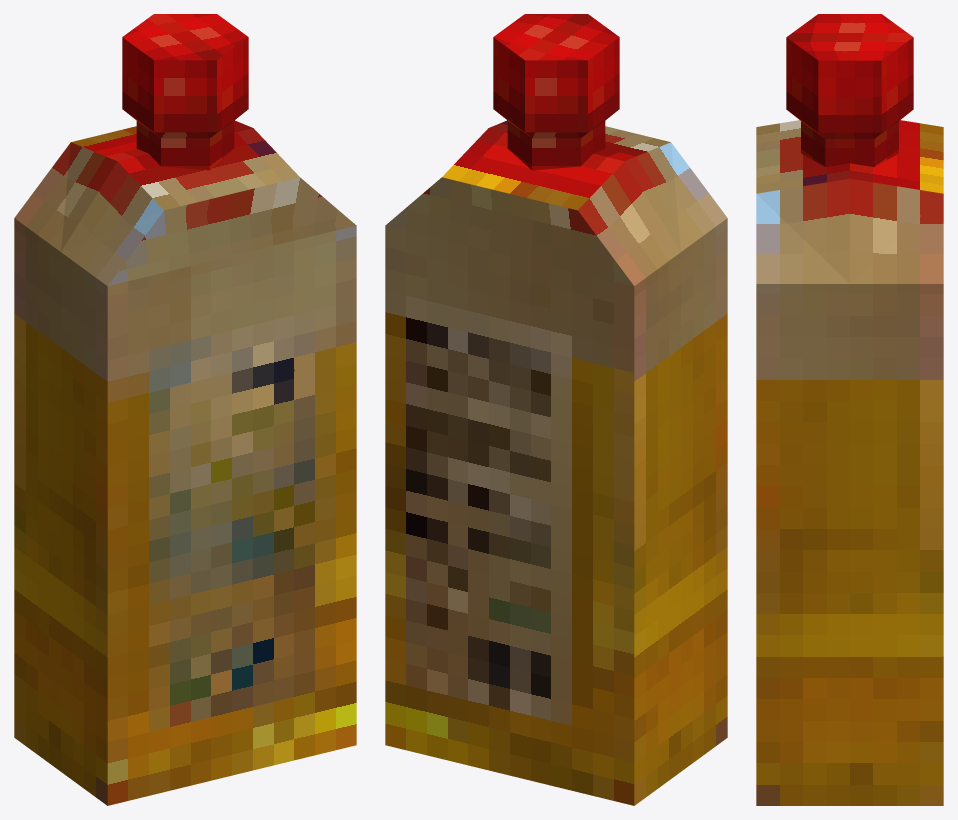
Rendered from BottleCleaner01.obj.
3 renders of one model, left to right at view 1: azimuth 30°, elevation 25°; view 2: azimuth 150°, elevation 25°; view 3: azimuth 270°, elevation 25°, orthographic.
Visible parts, largest first — view 1: BottleCleaner01; view 2: BottleCleaner01; view 3: BottleCleaner01.
Part boxes in pixels (x1,y1,x2,y2): BottleCleaner01: (14,14,356,805); BottleCleaner01: (385,14,727,805); BottleCleaner01: (756,14,943,805).
Size of the model in its own units: 0.1734 by 0.4688 by 0.1125.
